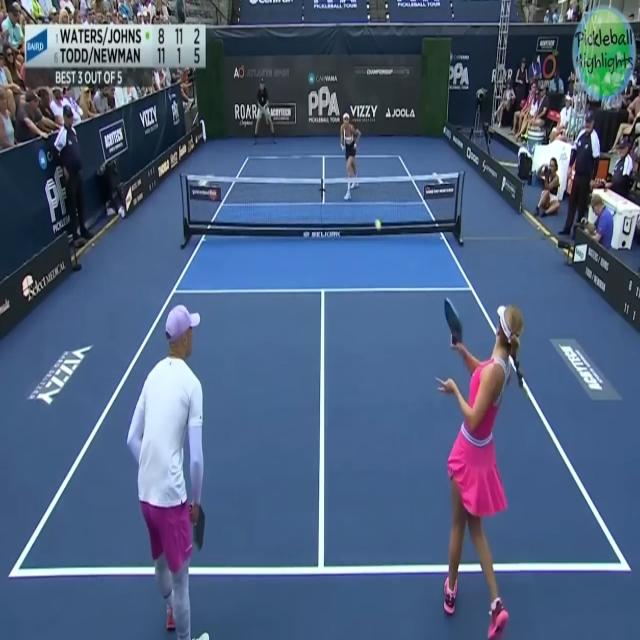Pickleball: (373, 217, 382, 232)
